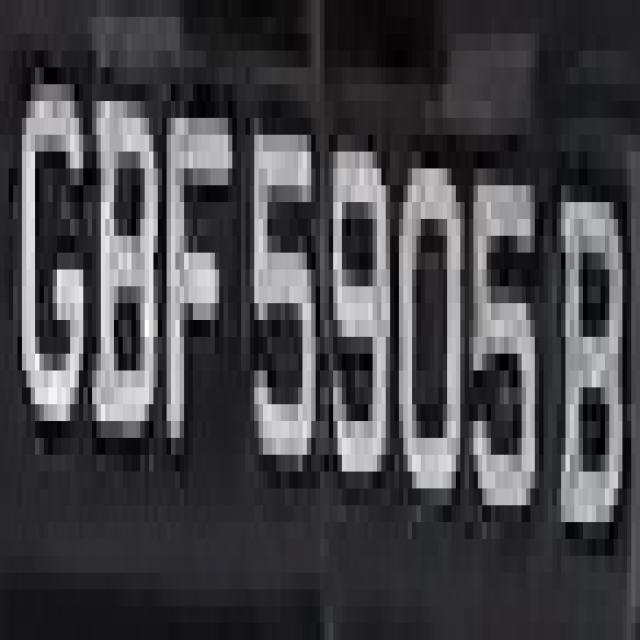0: (386, 101, 464, 556)
5: (465, 152, 552, 539), (241, 67, 311, 539)
9: (311, 50, 390, 556)
B: (556, 151, 640, 572), (96, 84, 162, 472)
F: (158, 84, 228, 522)
G: (8, 67, 88, 438)
